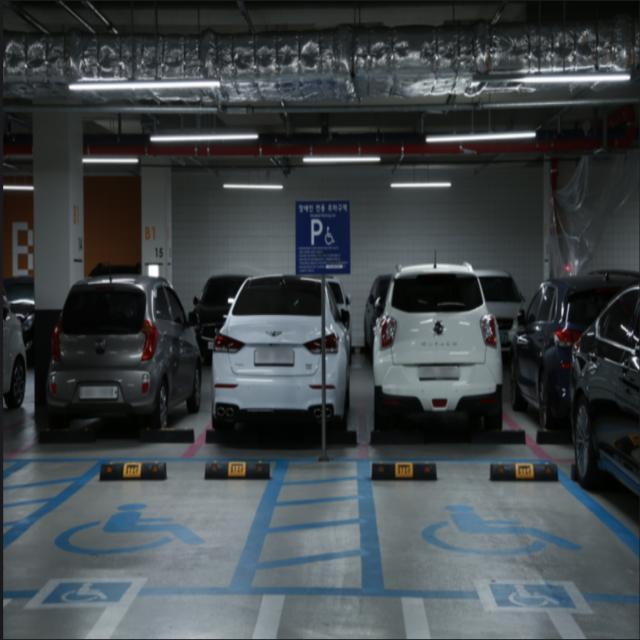Car: (41, 266, 195, 448), (208, 270, 357, 457), (372, 266, 506, 444)
Vacant: (44, 455, 284, 598), (342, 460, 610, 588)
